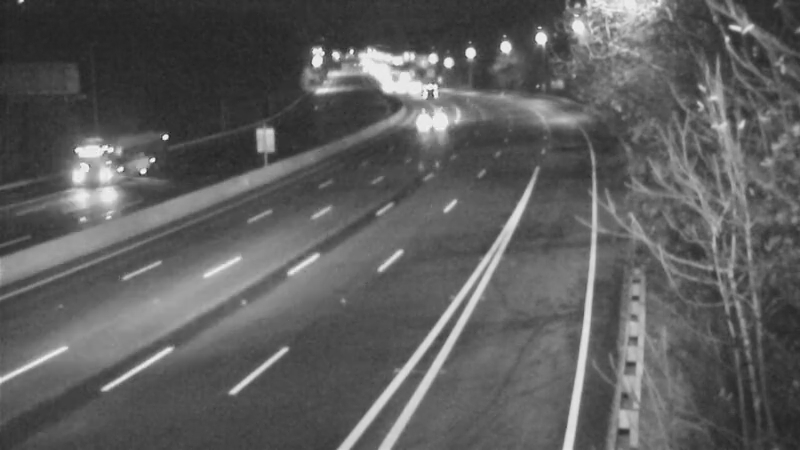vehicle: (73, 126, 153, 206), (405, 68, 455, 118), (405, 88, 455, 138)
